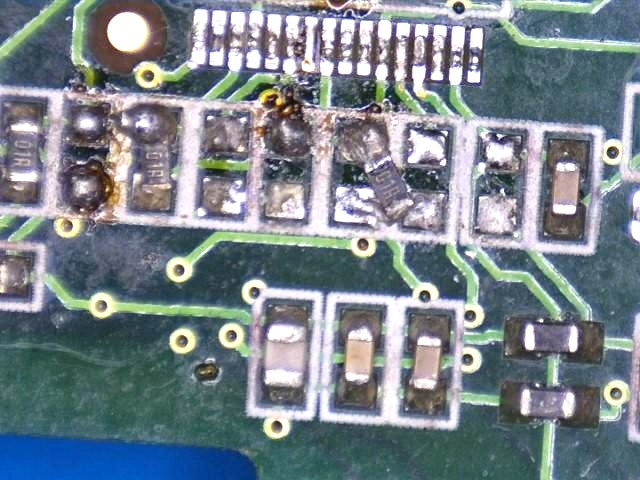pcb_defect: (334, 119, 415, 226), (119, 103, 181, 212), (333, 186, 445, 230)
